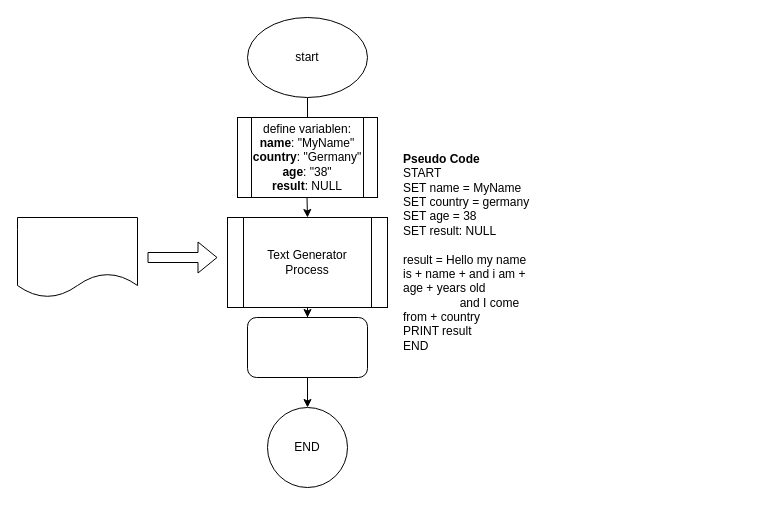
This 779x505 diagram has some shape labels left out. Here are the shapes that lost their labels. From the top down, the centre of each, then its label:
the point at 77,257: Process: means when your app shall do something itself
the point at 307,347: print result
